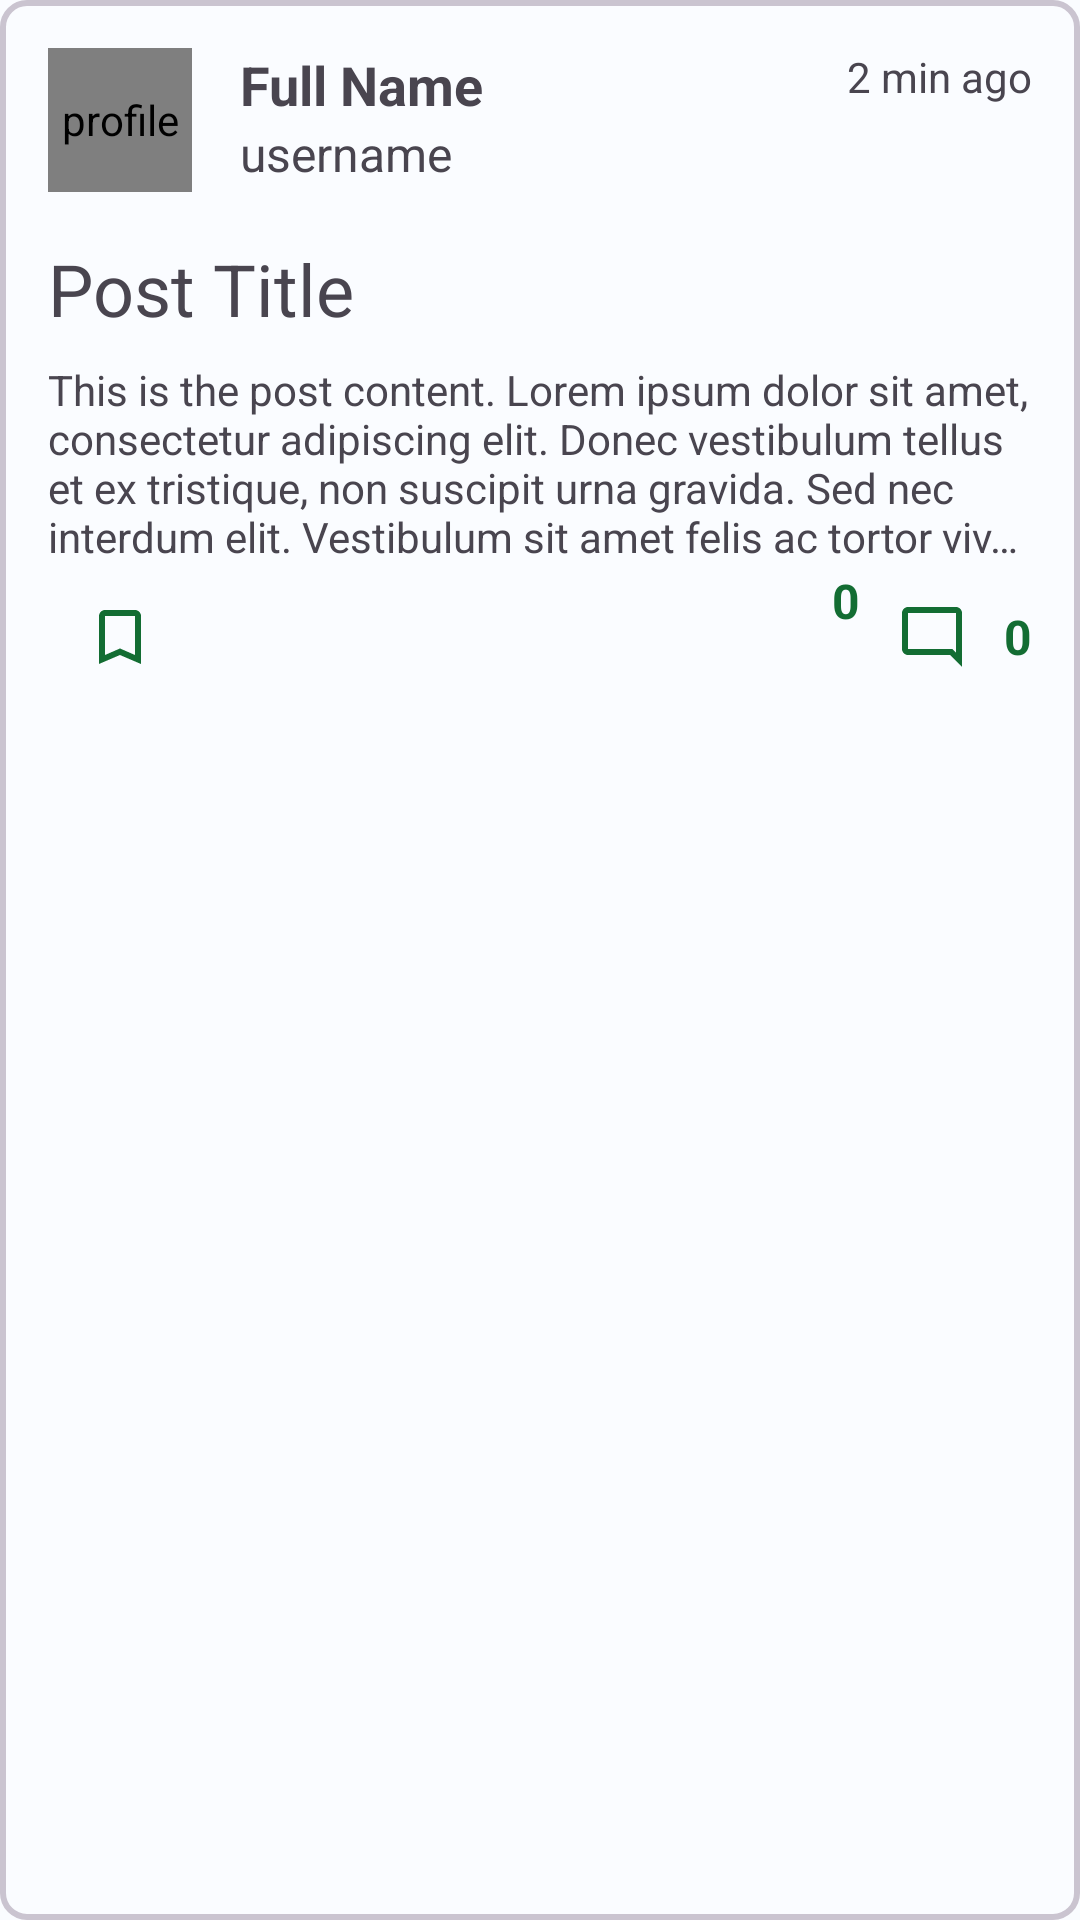

Screen size 1080x1920. Icon name, then its center in pixels as (x,y):
bookmark: (120,637)
comment: (932,637)
